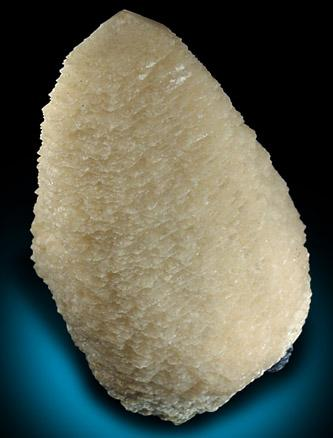calcite: (31, 10, 310, 424)
